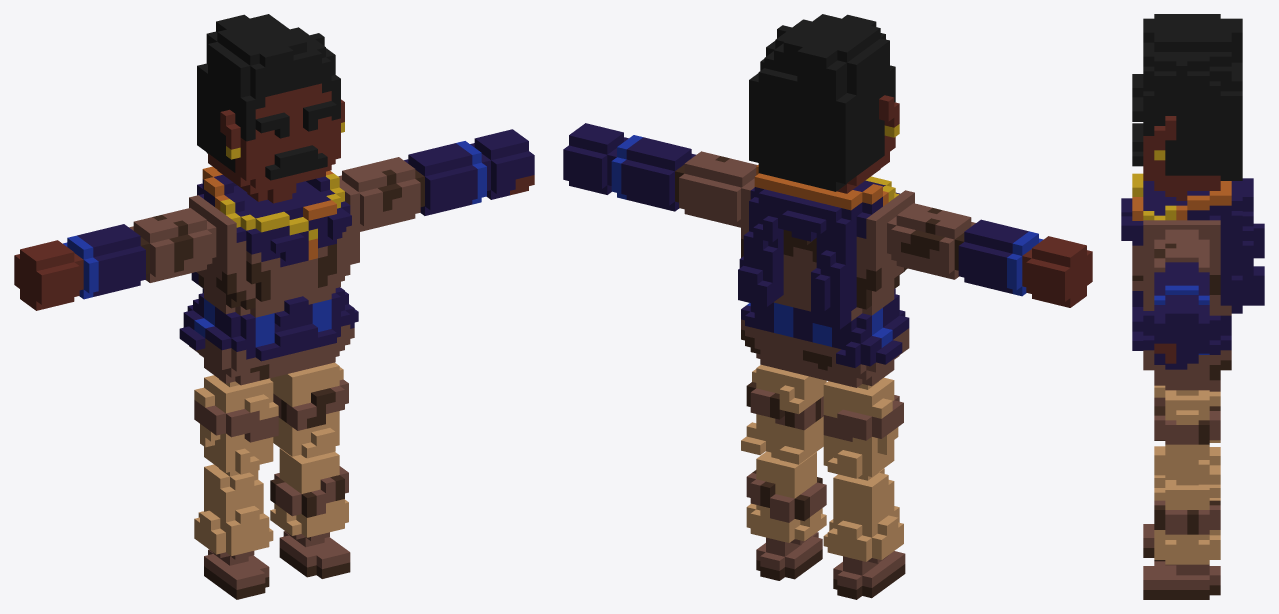
Rendered from human_man_warrior.glb.
3 renders of one model, left to right at view 1: azimuth 30°, elevation 25°; view 2: azimuth 150°, elevation 25°; view 3: azimuth 270°, elevation 25°, orthographic.
Visible parts, largest first — view 1: human_man_warrior.001; view 2: human_man_warrior.001; view 3: human_man_warrior.001.
Boxes of the visible parts, left/top/right/bottom form: human_man_warrior.001: left=14, top=14, right=534, bottom=599; human_man_warrior.001: left=563, top=14, right=1092, bottom=599; human_man_warrior.001: left=1121, top=14, right=1264, bottom=599.
Size of the model in its own units: 5.2 by 5.4 by 1.3.
1 material, 1 textured.
